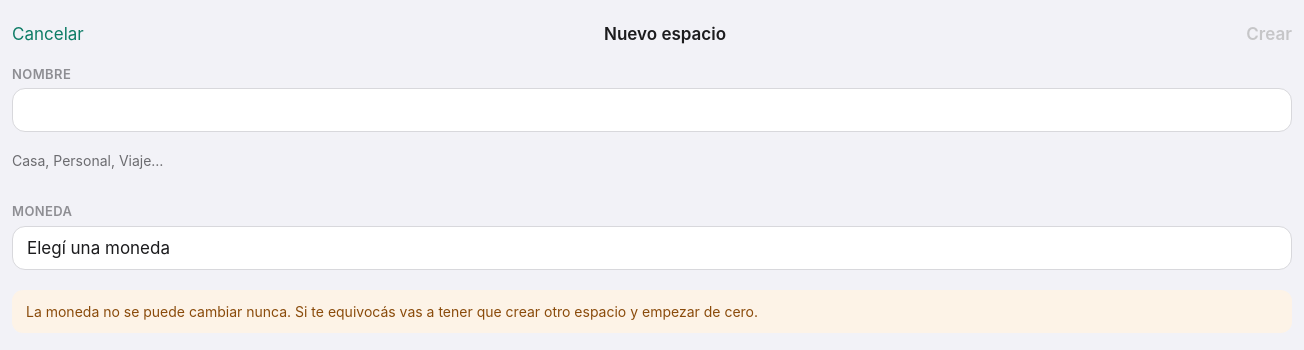
Test case: the screen a Space is created on › refuses Crear until the form can be submitted
Check: the button "Crear" is disabled, box [1246,12,1292,56]
Type "Casa" into the field labelled "Nombre" at (652, 110), box [12,88,1292,132]
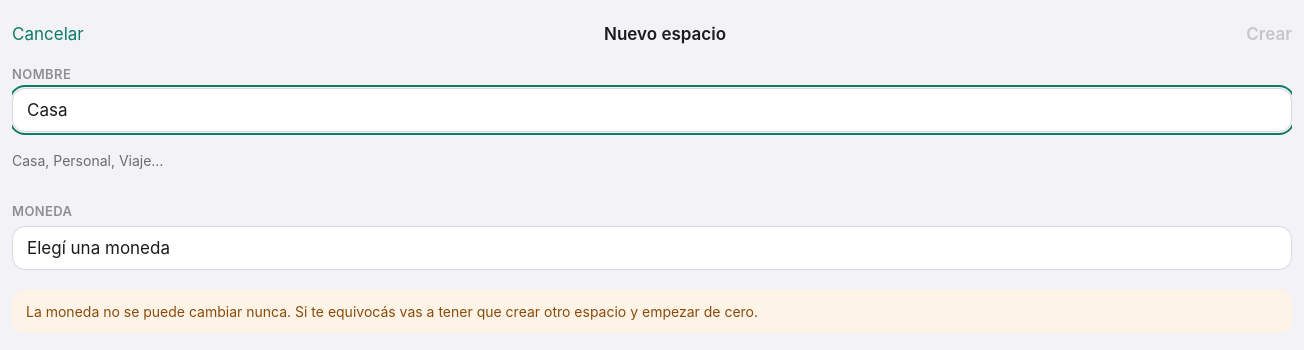
Check: the button "Crear" is disabled, box [1246,12,1292,56]
Select "Peso argentino (ARS)" in the dropdown labelled "Moneda" at (652, 248), box [12,226,1292,270]
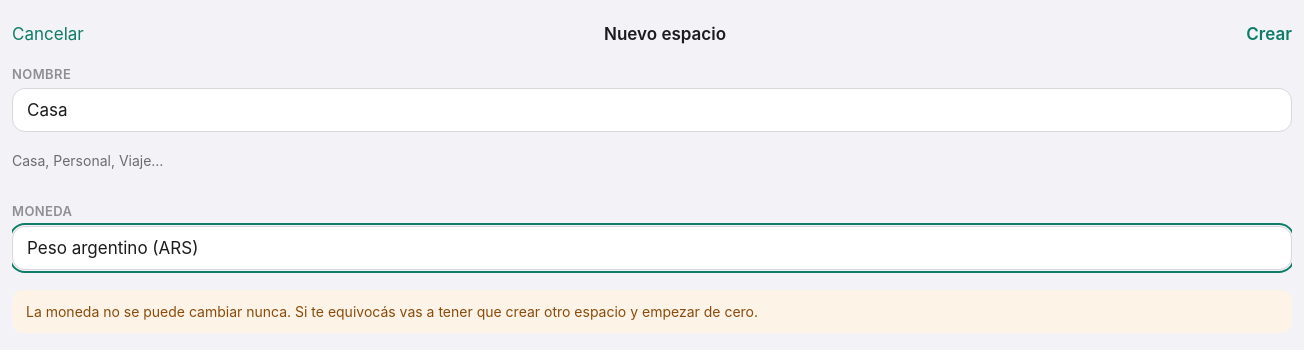
Check: the button "Crear" is enabled, box [1246,12,1292,56]
